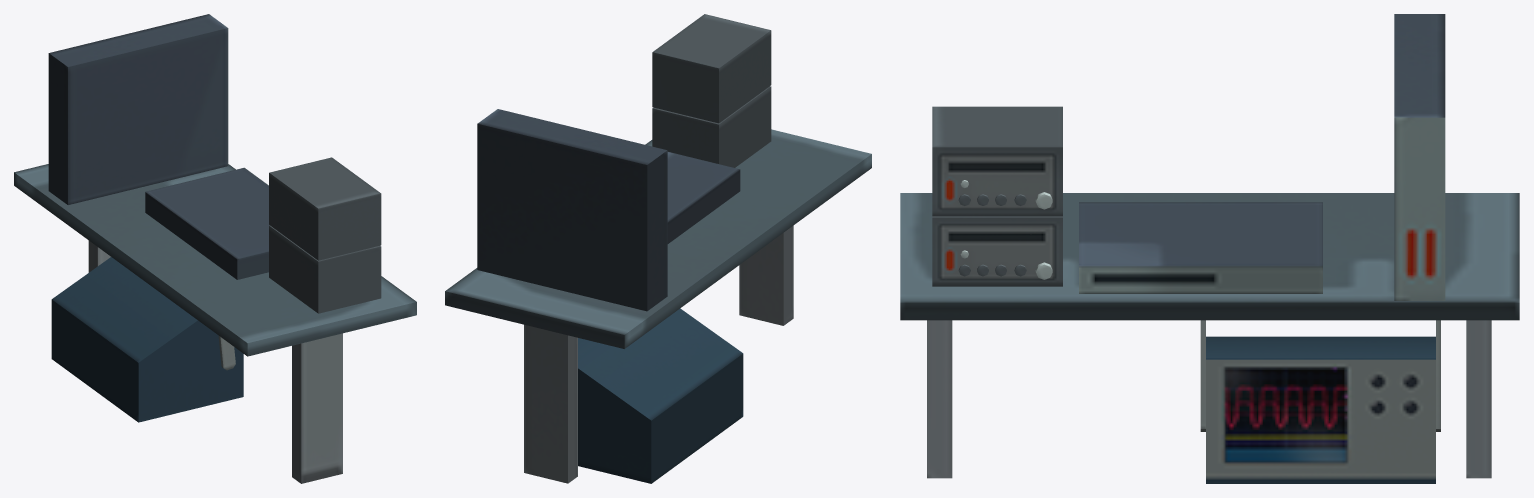
Rendered from Tx_prop_shelf_3_5.fbx.
3 renders of one model, left to right at view 1: azimuth 30°, elevation 25°; view 2: azimuth 150°, elevation 25°; view 3: azimuth 270°, elevation 25°, orthographic. The views are drawn at different scales.
Parts seen in each view (by area): view 1: Tx_prop_shelf_3_9; view 2: Tx_prop_shelf_3_9; view 3: Tx_prop_shelf_3_9.
Part boxes in pixels (bbox=[...]): Tx_prop_shelf_3_9: bbox=[14, 14, 416, 483]; Tx_prop_shelf_3_9: bbox=[445, 14, 871, 483]; Tx_prop_shelf_3_9: bbox=[900, 14, 1519, 483].
Bounding box in the file's own units: 3.03 × 5.19 × 7.24.
Materials: 3 (3 with a texture image).
